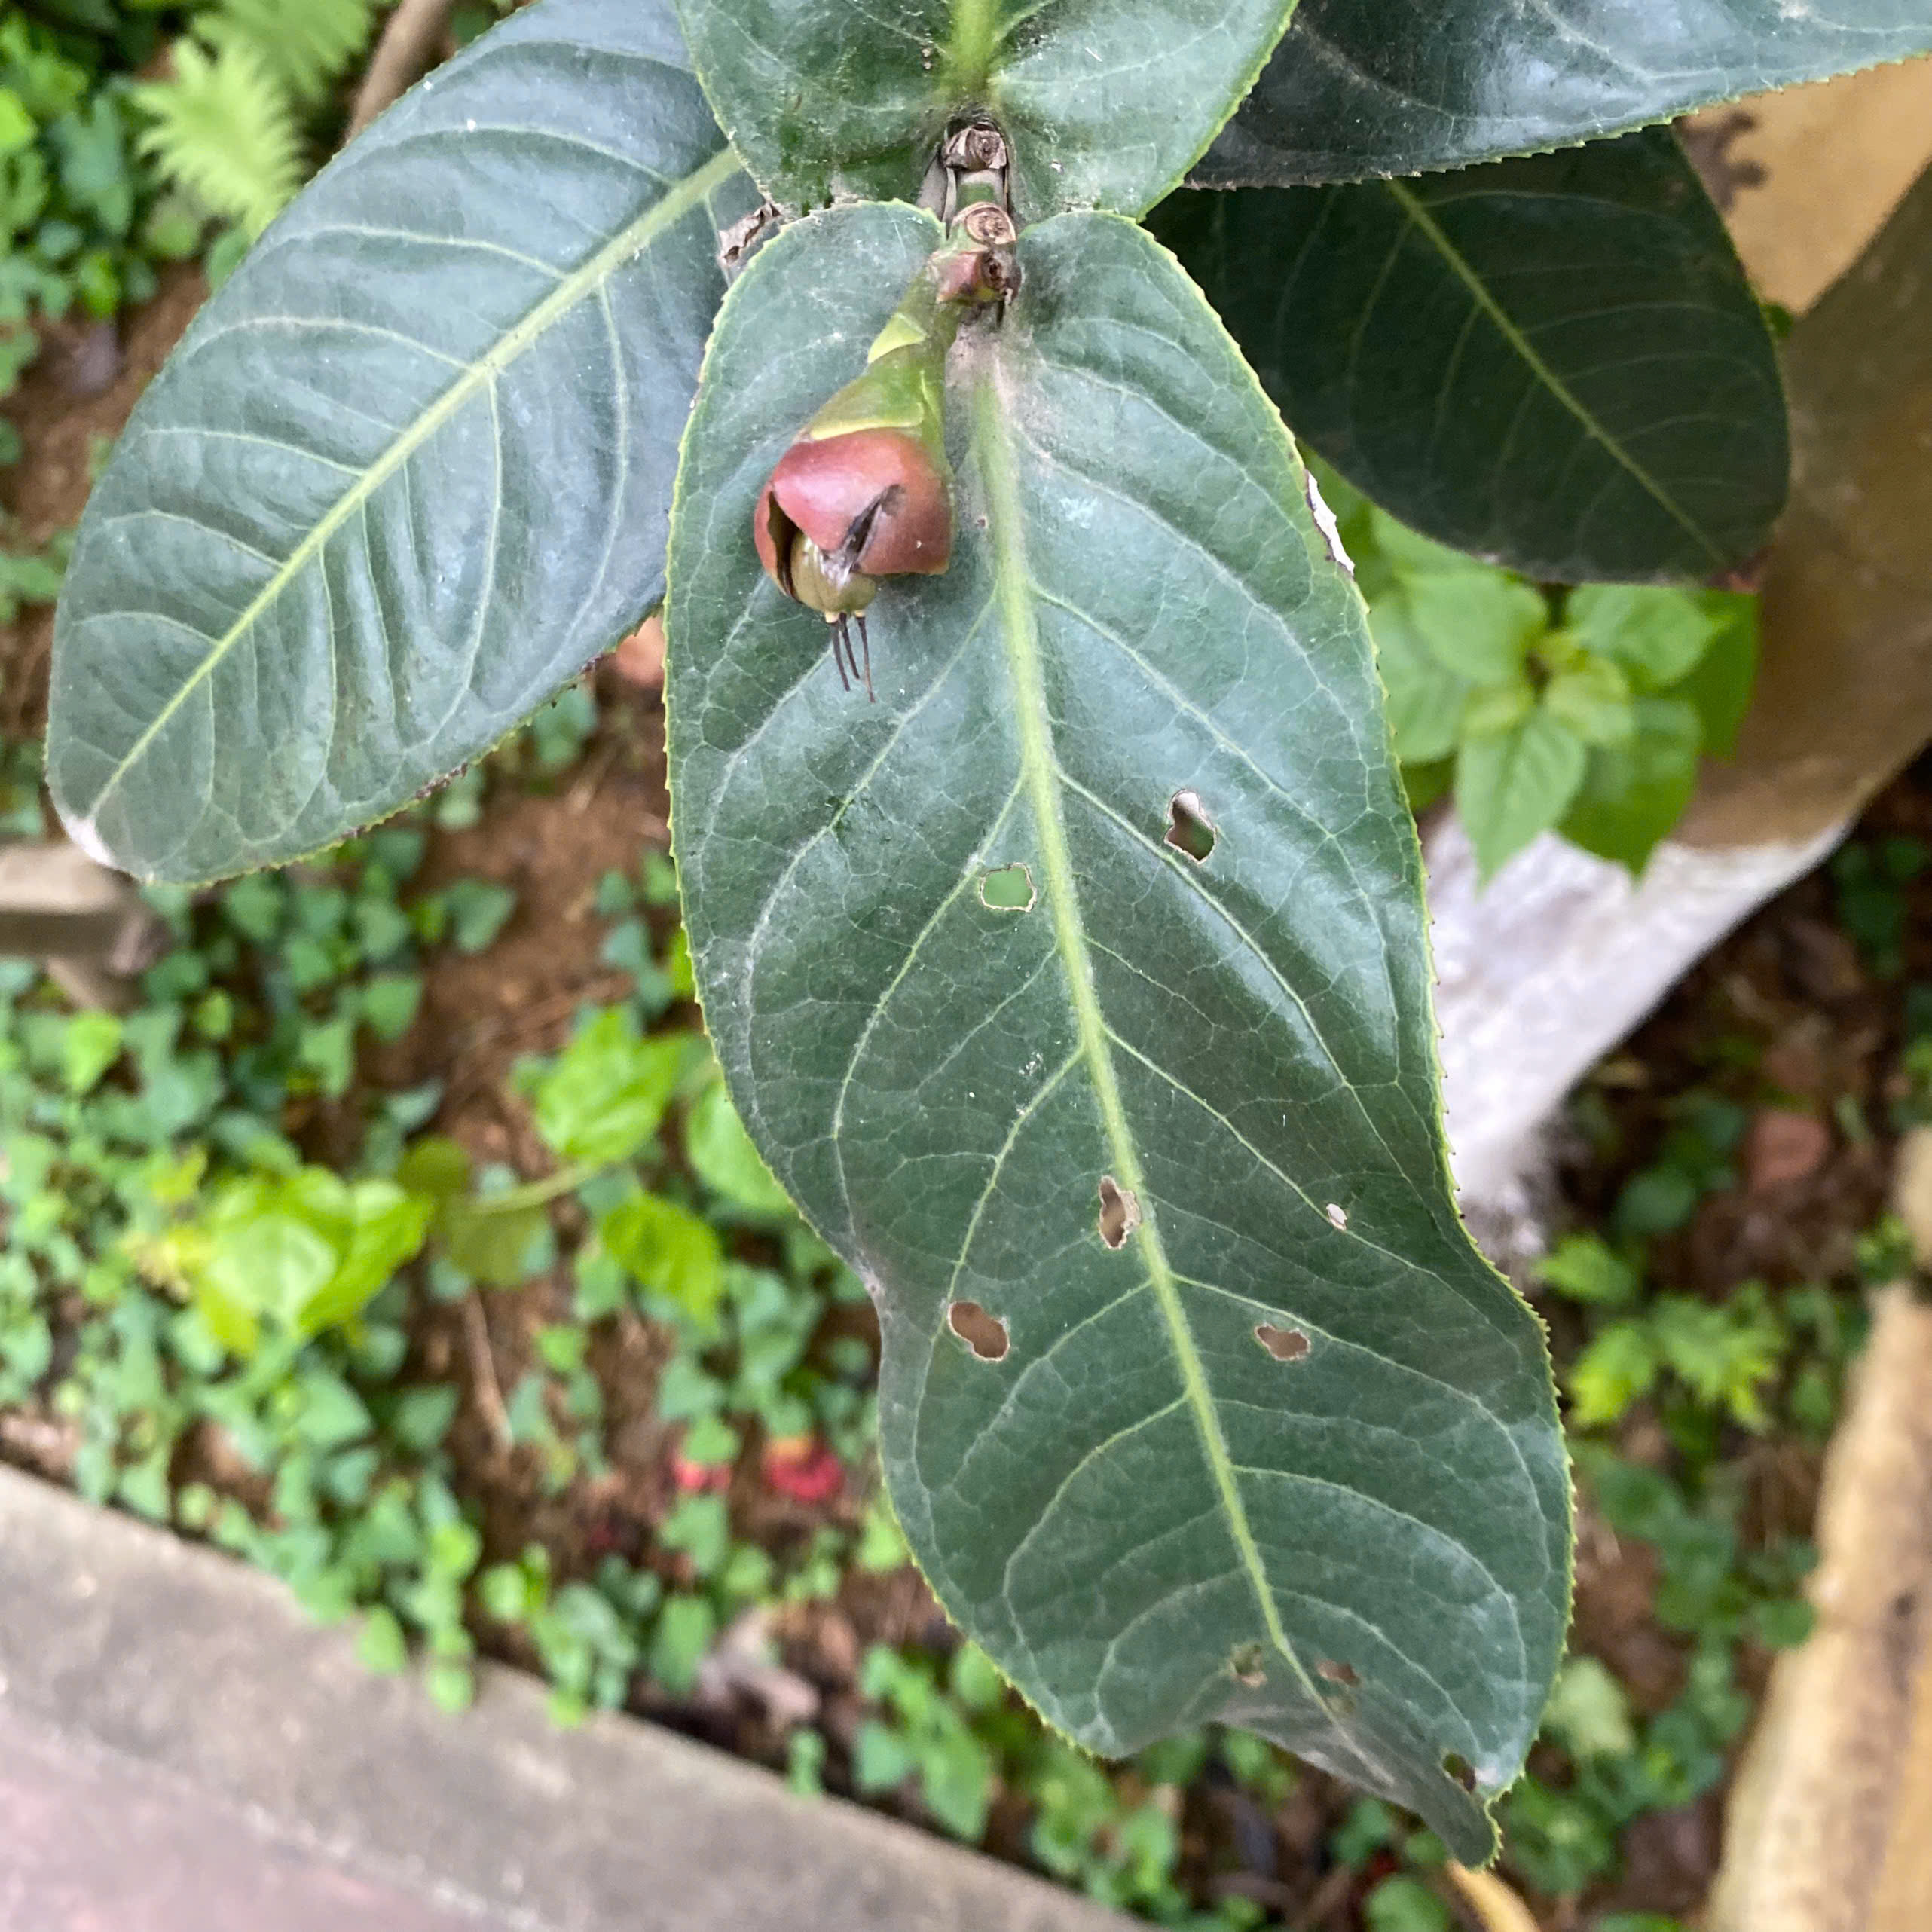hoa_hai_duong: (610, 219, 1691, 1905)
